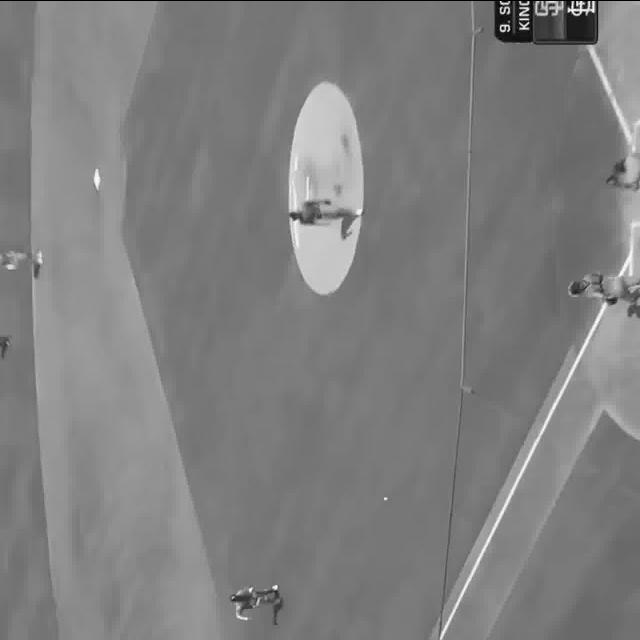base: (93, 167, 100, 193)
baseball: (385, 498, 389, 500)
shoe: (350, 210, 364, 218), (270, 582, 280, 592)
